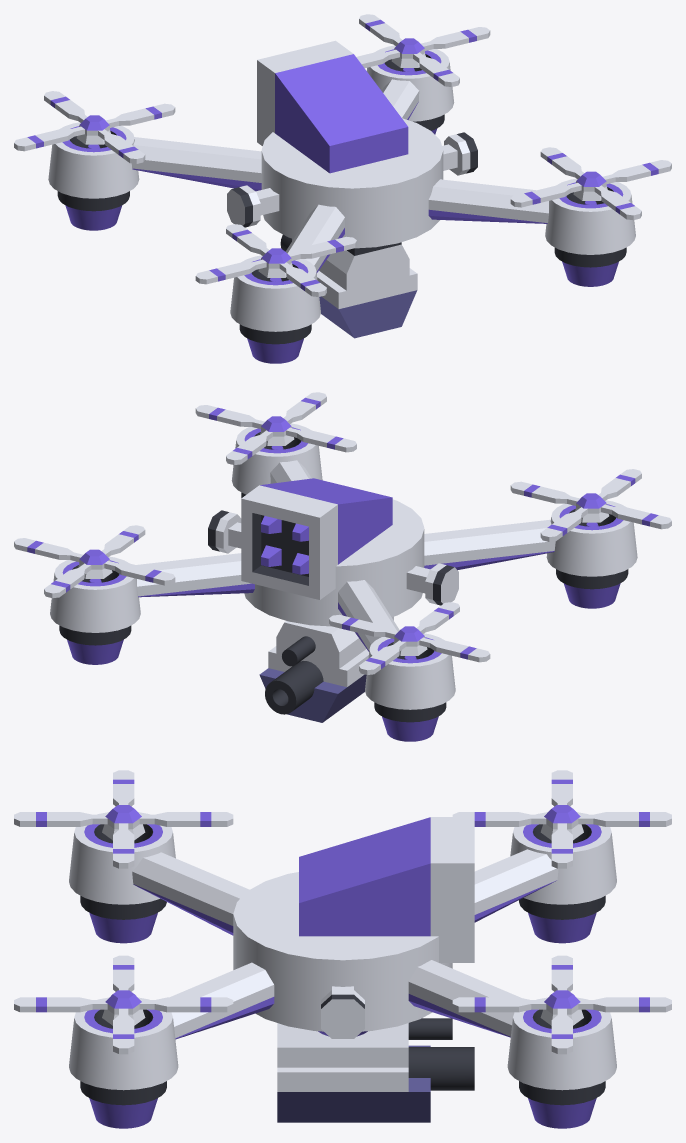
Rendered from Drone.glb.
3 views of the same model, one above another, from view 1: azimuth 30°, elevation 25°; view 2: azimuth 150°, elevation 25°; view 3: azimuth 270°, elevation 25° (orthographic). The views are drawn at different scales.
Parts seen in each view (by area): view 1: engine_round (×4), propeller_quad (×4), weapon_turret, cylinder, hull_tailEdge (×4), largeBlaster_barrelAssault, socket_double (×2); view 2: engine_round (×4), propeller_quad (×4), weapon_turret, hull_tailEdge (×4), largeBlaster_barrelAssault, cylinder, socket_double (×2); view 3: engine_round (×4), propeller_quad (×4), weapon_turret, cylinder, largeBlaster_barrelAssault, hull_tailEdge (×4), socket_double.
Boxes of the visible parts, x1,y1,x2,y2 form: engine_round (×4): [48, 45, 635, 363]; propeller_quad (×4): [14, 14, 671, 296]; weapon_turret: [257, 40, 408, 173]; cylinder: [261, 118, 443, 248]; hull_tailEdge (×4): [131, 79, 548, 273]; largeBlaster_barrelAssault: [280, 234, 417, 338]; socket_double (×2): [227, 132, 477, 227]; engine_round (×4): [50, 423, 637, 741]; propeller_quad (×4): [14, 392, 671, 674]; weapon_turret: [241, 478, 392, 599]; hull_tailEdge (×4): [136, 460, 555, 651]; largeBlaster_barrelAssault: [259, 616, 393, 722]; cylinder: [244, 499, 424, 626]; socket_double (×2): [208, 510, 458, 605]; engine_round (×4): [69, 812, 616, 1128]; propeller_quad (×4): [14, 770, 671, 1054]; weapon_turret: [299, 817, 474, 962]; cylinder: [233, 872, 452, 1031]; largeBlaster_barrelAssault: [277, 1018, 474, 1122]; hull_tailEdge (×4): [132, 849, 558, 1039]; socket_double: [321, 986, 364, 1038].
Size of the model in its own units: 3 by 1.35 by 3.
